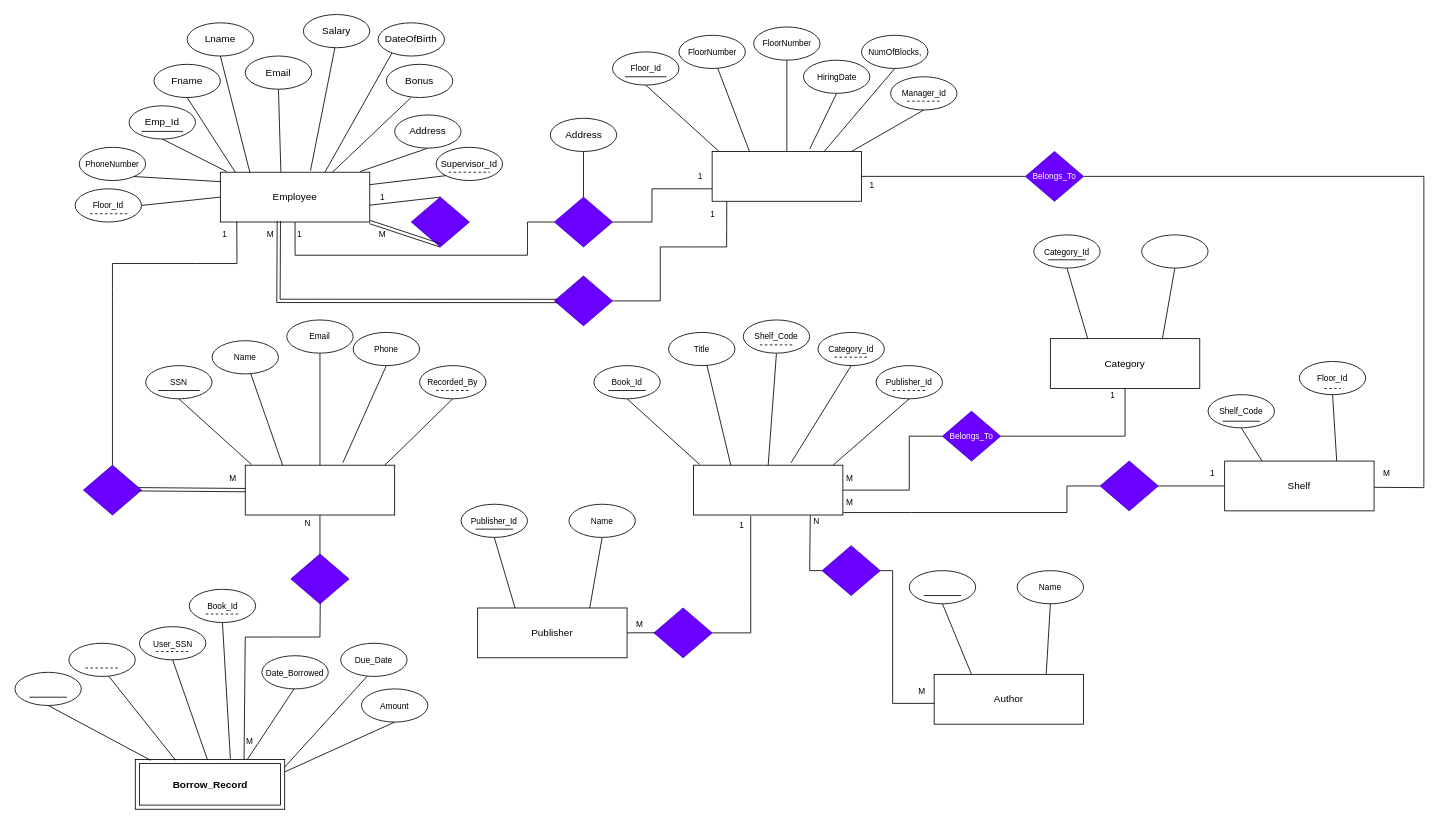
Some shapes in this 1439 by 824 pixel diagram are drawn without their labels. The centre of each missing label's shape, as x and y in pixels:
"Author_Id" belongs at point 942,587.
"Book" belongs at point 768,489.
"Borrow_Id" belongs at point 47,688.
"Borrows" belongs at point 319,578.
"Cat_Name" belongs at point 1174,251.
"Contains" belongs at point 1128,485.
"Employee_Id" belongs at point 101,659.
"Floor" belongs at point 786,176.
"Has" belongs at point 682,632.
"IsWritten" belongs at point 850,570.
"Manage" belongs at point 583,221.
"Records" belongs at point 112,489.
"Supervises" belongs at point 439,221.
"User" belongs at point 319,489.
"Works_On" belongs at point 583,300.
